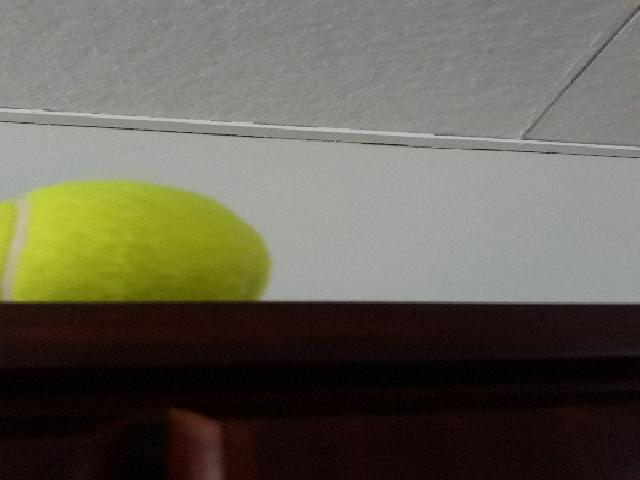Ball: (3, 179, 269, 302)
